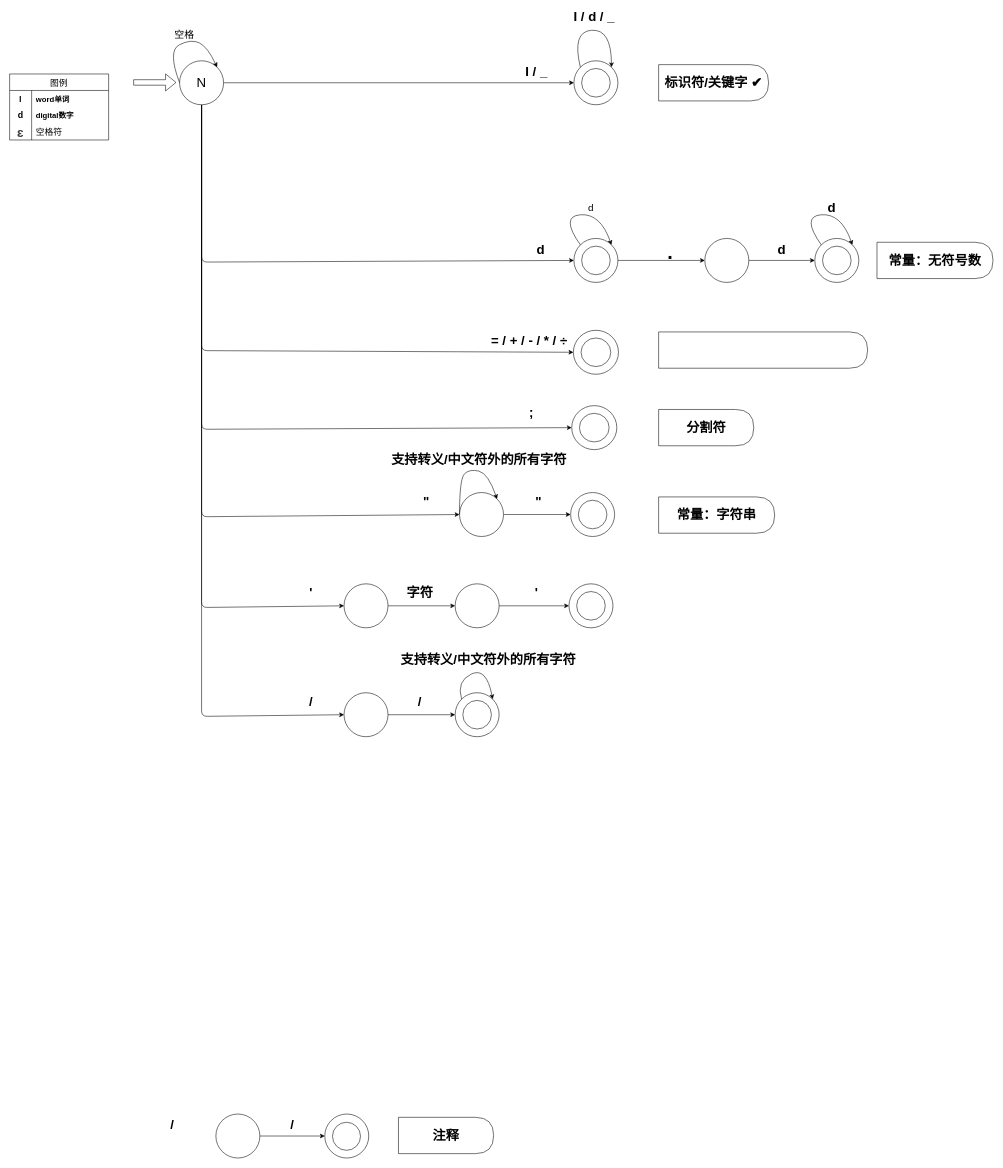
The diagram is 1003 pixels wide and 1168 high, and some of its shapes have lost their labels. Each missing label, with the centre of its shape:
N10: the point at 237,1135
运算符“ =，+，-，*， / ”: the point at 763,349
